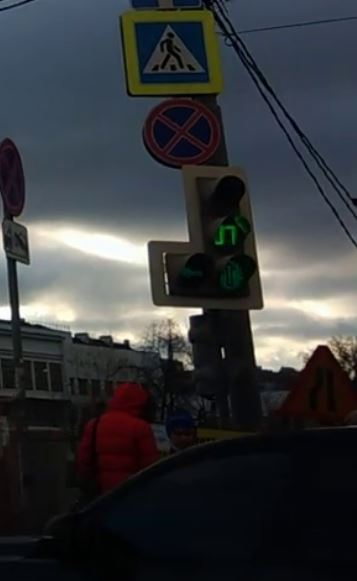Yaya Gecidi: (139, 19, 211, 86)
